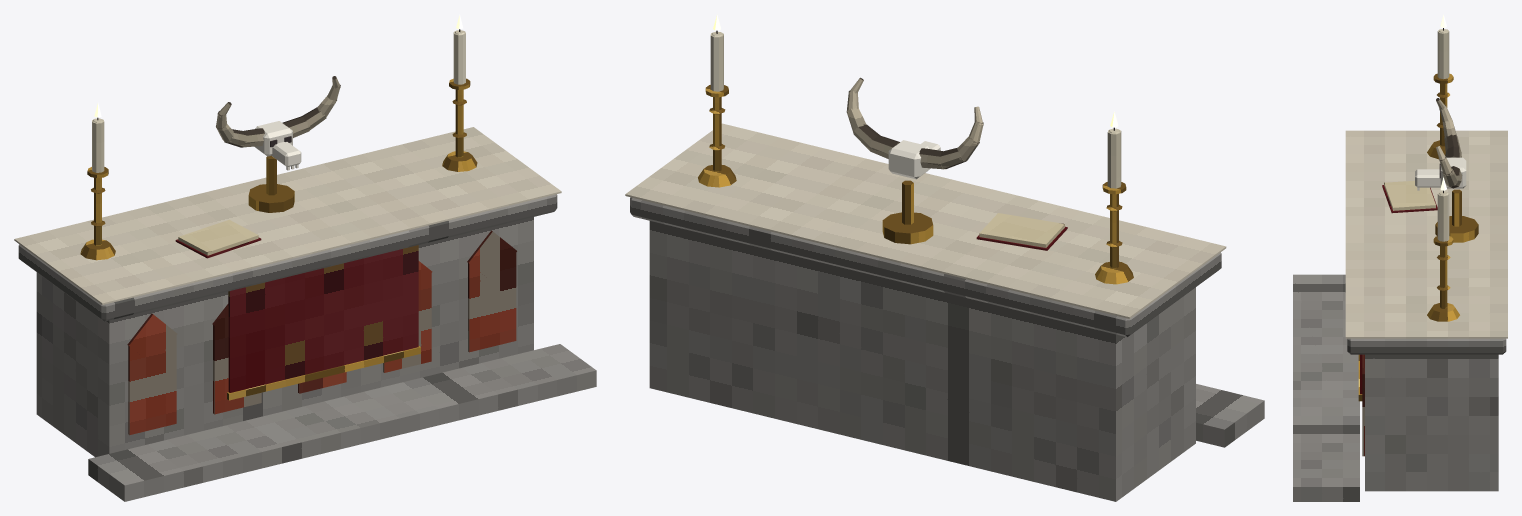
Rendered from chapel_altar.glb.
3 views of the same model, side by side, from view 1: azimuth 30°, elevation 25°; view 2: azimuth 150°, elevation 25°; view 3: azimuth 270°, elevation 25° (orthographic). The views are drawn at different scales.
Visible parts, largest first — view 1: body; view 2: body; view 3: body.
Boxes of the visible parts, x1=… form: body: x1=14, y1=29, x2=596, y2=501; body: x1=625, y1=30, x2=1264, y2=501; body: x1=1293, y1=28, x2=1507, y2=501.
Bounding box in the file's own units: 3 × 1.98 × 1.29.
12 materials, 9 textured.
